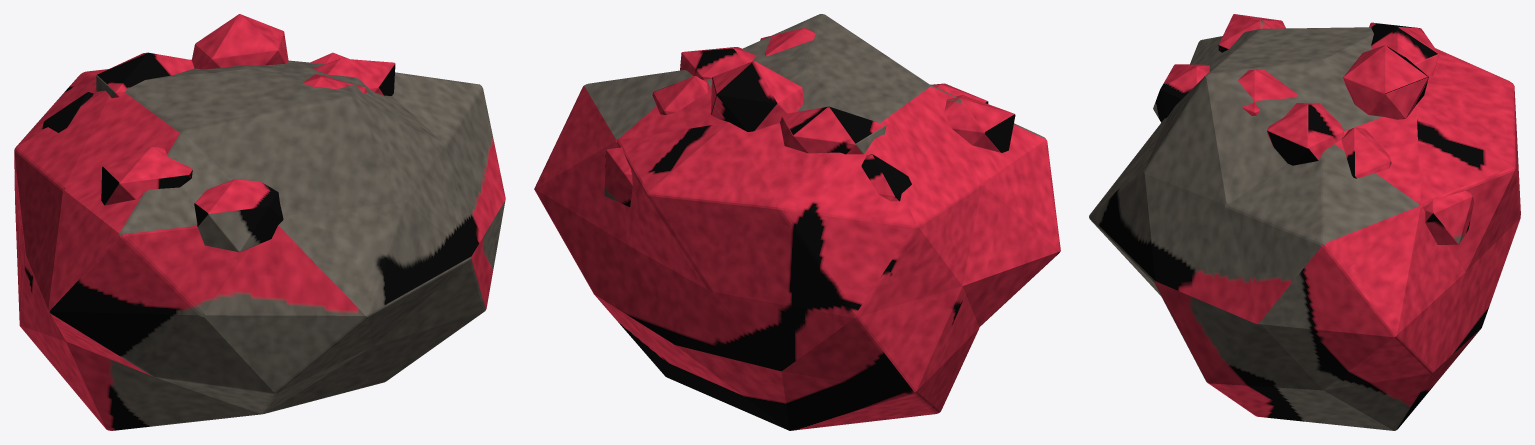
The model's file is Silver.fbx.
3 renders of one model, left to right at view 1: azimuth 30°, elevation 25°; view 2: azimuth 150°, elevation 25°; view 3: azimuth 270°, elevation 25°, orthographic. The views are drawn at different scales.
Visible parts, largest first — view 1: SDT_Mineral_Silver; view 2: SDT_Mineral_Silver; view 3: SDT_Mineral_Silver.
Boxes of the visible parts, left/top/right/bottom form: SDT_Mineral_Silver: left=14, top=14, right=505, bottom=430; SDT_Mineral_Silver: left=534, top=14, right=1060, bottom=430; SDT_Mineral_Silver: left=1089, top=14, right=1520, bottom=430.
Bounding box in the file's own units: 57 × 40 × 45.
